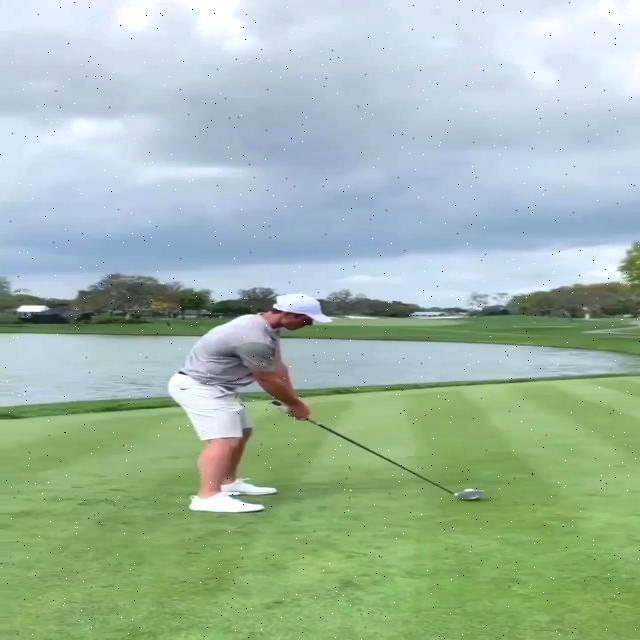golf ball: (465, 489, 474, 492)
golf club-handle: (278, 398, 486, 502)
golf club-head: (454, 487, 485, 499)
